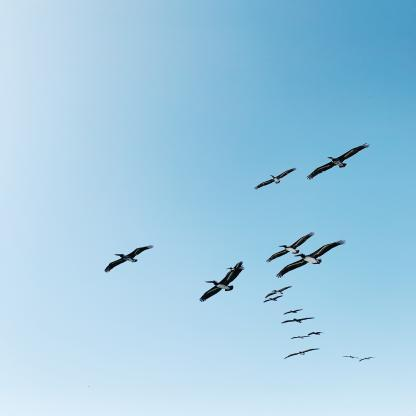bird: (276, 240, 345, 278), (306, 144, 370, 180), (199, 261, 245, 303), (266, 231, 315, 263), (104, 243, 155, 272), (255, 167, 297, 190), (284, 348, 319, 359), (264, 285, 293, 298), (282, 317, 314, 323), (264, 295, 283, 302), (283, 309, 303, 315), (291, 335, 310, 340), (308, 331, 321, 336), (360, 357, 374, 361), (344, 355, 357, 359)
